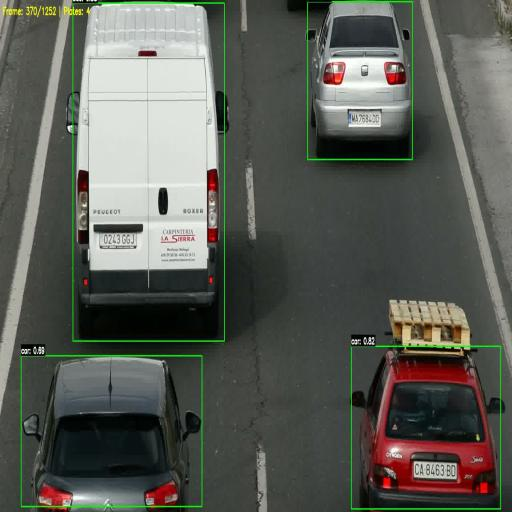license-plate: (413, 460, 457, 481), (98, 231, 137, 248), (349, 110, 381, 127)
